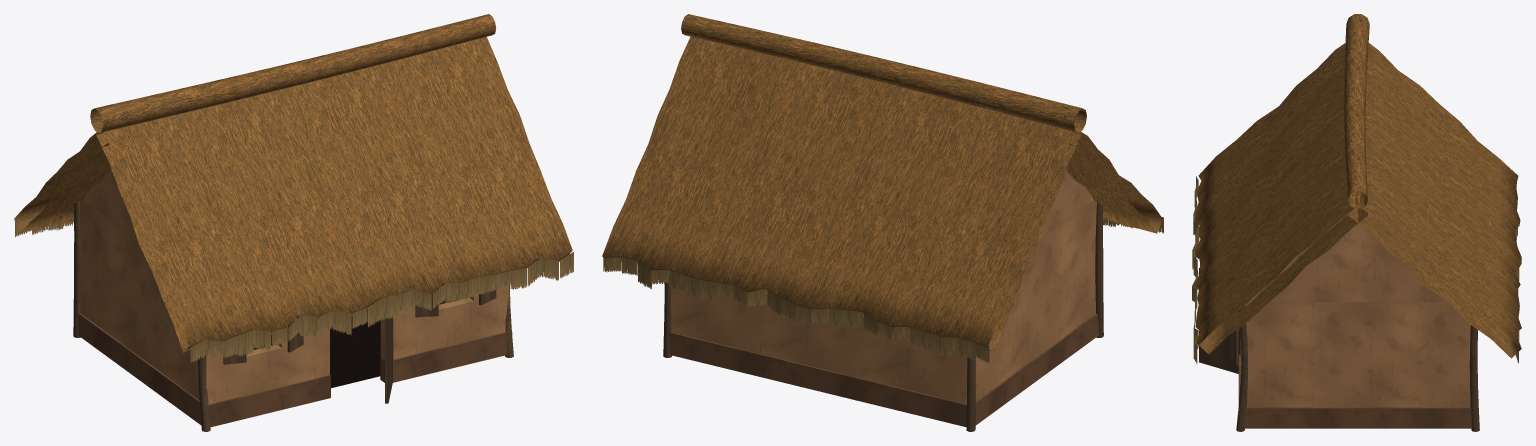
File: maison.glb
3 views of the same model, side by side, from view 1: azimuth 30°, elevation 25°; view 2: azimuth 150°, elevation 25°; view 3: azimuth 270°, elevation 25° (orthographic). The views are drawn at different scales.
Parts seen in each view (by area): view 1: Maison_Pan, Maison_Murs, Maison_Faitage, Maison_Socle, Maison_Frange, Maison_Pan.001, Plane, Maison_Pignon, Maison_Poteau.001, Maison_Porte, Maison_Poteau; view 2: Maison_Pan.001, Maison_Murs, Maison_Socle, Maison_Faitage, Maison_Frange.001, Maison_Pan, Maison_Pignon, Maison_Poteau, Maison_Poteau.001, Maison_Poteau.003; view 3: Maison_Pan.001, Maison_Pan, Maison_Murs, Maison_Pignon.001, Maison_Socle, Maison_Faitage, Maison_Poteau.003, Maison_Poteau.002, Maison_Porte, Maison_Frange.
Boxes of the visible parts, x1=… form: Maison_Pan: x1=96, y1=37, x2=572, y2=352; Maison_Murs: x1=80, y1=199, x2=509, y2=404; Maison_Faitage: x1=90, y1=14, x2=496, y2=133; Maison_Socle: x1=78, y1=288, x2=512, y2=427; Maison_Frange: x1=190, y1=252, x2=573, y2=362; Maison_Pan.001: x1=14, y1=128, x2=111, y2=233; Plane: x1=253, y1=308, x2=380, y2=388; Maison_Pignon: x1=82, y1=170, x2=136, y2=238; Maison_Poteau.001: x1=73, y1=201, x2=80, y2=337; Maison_Porte: x1=385, y1=316, x2=393, y2=403; Maison_Poteau: x1=198, y1=355, x2=210, y2=431; Maison_Pan.001: x1=602, y1=36, x2=1080, y2=353; Maison_Murs: x1=671, y1=200, x2=1096, y2=403; Maison_Socle: x1=669, y1=313, x2=1098, y2=427; Maison_Faitage: x1=681, y1=14, x2=1086, y2=133; Maison_Frange.001: x1=603, y1=257, x2=989, y2=363; Maison_Pan: x1=754, y1=51, x2=1162, y2=233; Maison_Pignon: x1=1038, y1=171, x2=1093, y2=240; Maison_Poteau: x1=1095, y1=202, x2=1103, y2=337; Maison_Poteau.001: x1=966, y1=355, x2=975, y2=431; Maison_Poteau.003: x1=663, y1=275, x2=671, y2=357; Maison_Pan.001: x1=1348, y1=43, x2=1521, y2=358; Maison_Pan: x1=1193, y1=43, x2=1368, y2=354; Maison_Murs: x1=1240, y1=302, x2=1470, y2=407; Maison_Pignon.001: x1=1249, y1=213, x2=1466, y2=301; Maison_Socle: x1=1238, y1=355, x2=1471, y2=428; Maison_Faitage: x1=1344, y1=14, x2=1369, y2=208; Maison_Poteau.003: x1=1469, y1=307, x2=1479, y2=431; Maison_Poteau.002: x1=1236, y1=306, x2=1247, y2=431; Maison_Porte: x1=1199, y1=267, x2=1240, y2=373; Maison_Frange: x1=1192, y1=176, x2=1199, y2=363.
Size of the model in its own units: 7.8 by 5.38 by 6.18.
6 materials, 6 textured.
